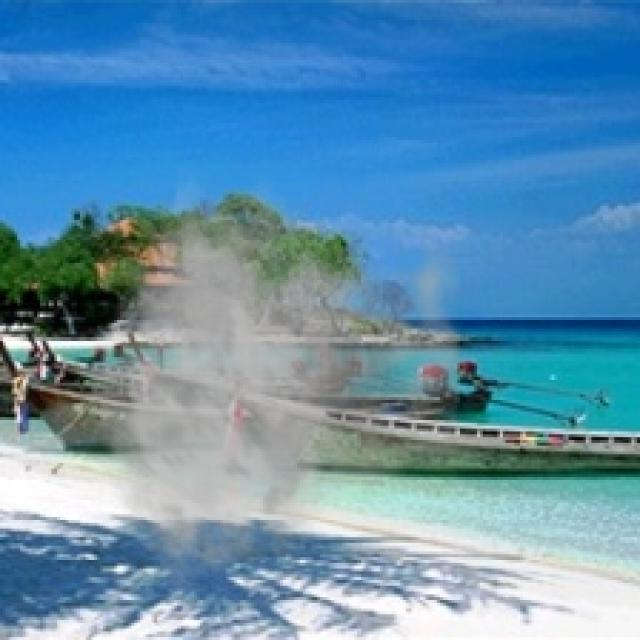Smoke: (88, 168, 500, 592)
